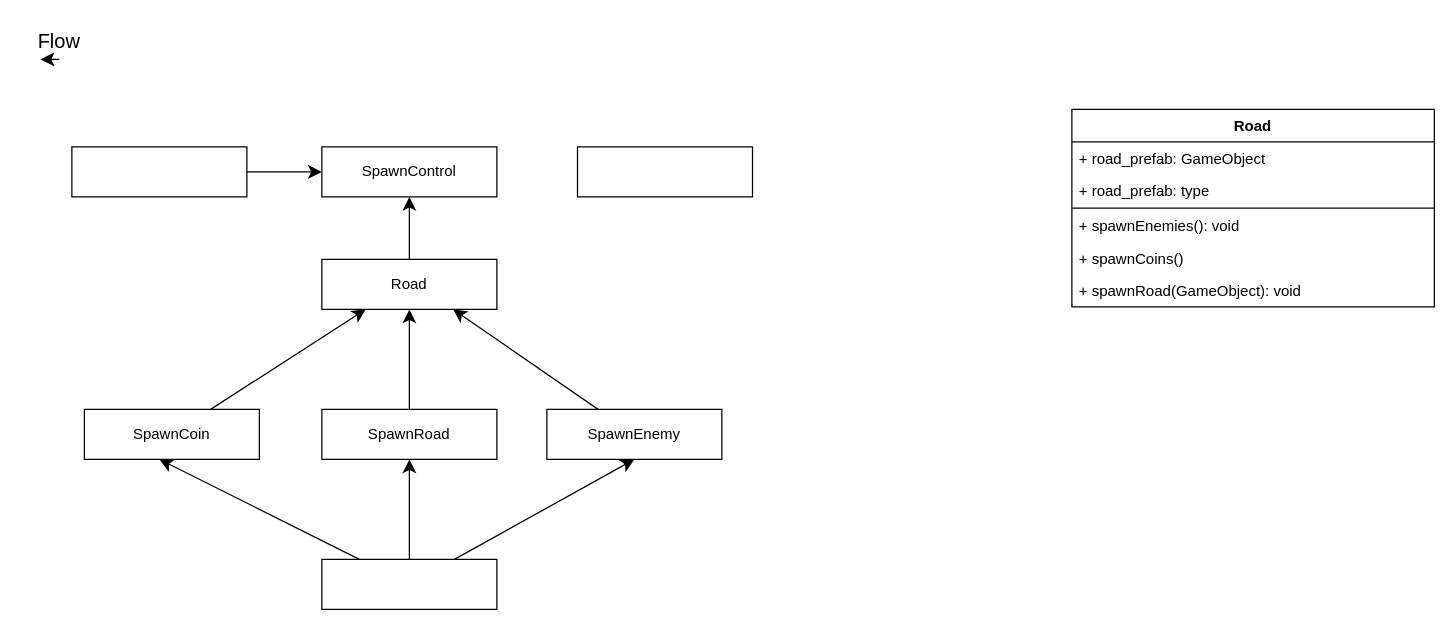
This 1456x631 diagram has some shape labels left out. Each missing label, with the box of its shape:
Resource: (576, 146, 752, 197)
RoadRandomizer: (71, 146, 247, 197)
Spawn: (321, 558, 497, 609)
